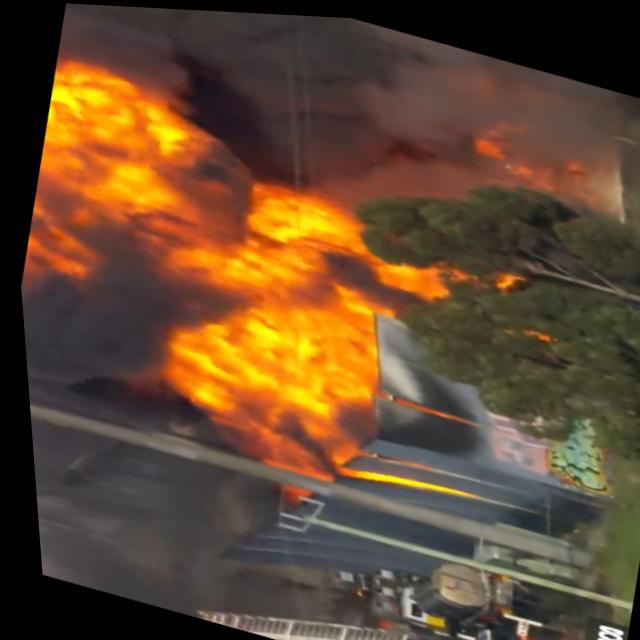Fire: (3, 51, 516, 483)
